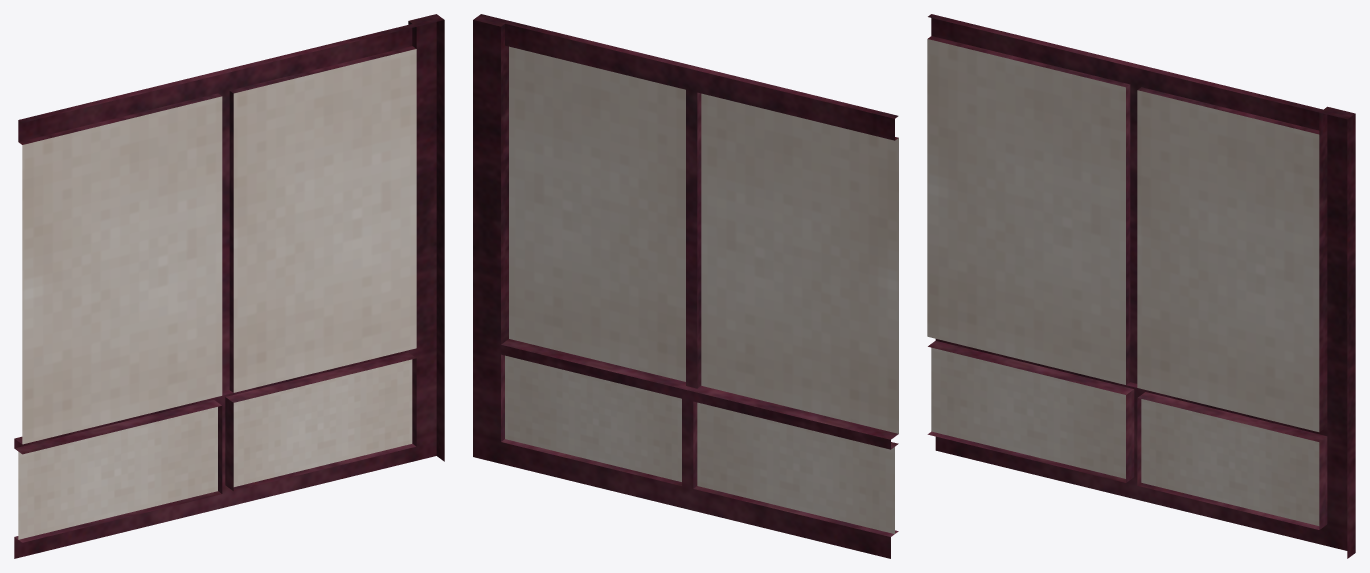
The model's file is NNJ0510030.fbx.
3 views of the same model, side by side, from view 1: azimuth 30°, elevation 25°; view 2: azimuth 150°, elevation 25°; view 3: azimuth 330°, elevation 25° (orthographic).
Visible parts, largest first — view 1: smNNJ0510030; view 2: smNNJ0510030; view 3: smNNJ0510030.
Part boxes in pixels (x1=…): smNNJ0510030: x1=14, y1=14, x2=444, y2=558; smNNJ0510030: x1=473, y1=14, x2=898, y2=558; smNNJ0510030: x1=927, y1=14, x2=1355, y2=558.
Bounding box in the file's own units: 276 × 276 × 9.21.
Materials: 1 (1 with a texture image).
